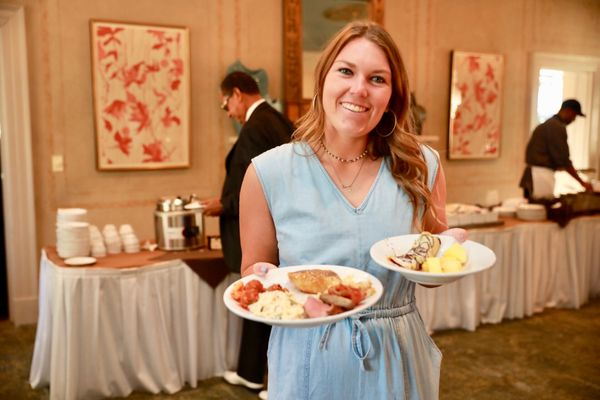sushi: (515, 203, 546, 220)
